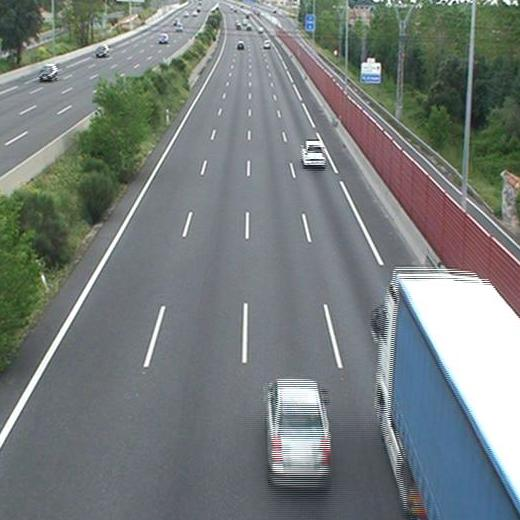car: (266, 380, 330, 482), (300, 141, 326, 166), (237, 42, 245, 50), (263, 40, 269, 48)
truck: (376, 274, 520, 520)
